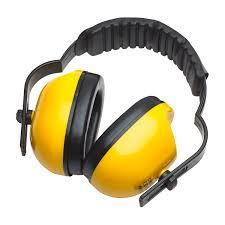Ear_protector: (10, 72, 102, 184), (92, 92, 174, 205)
